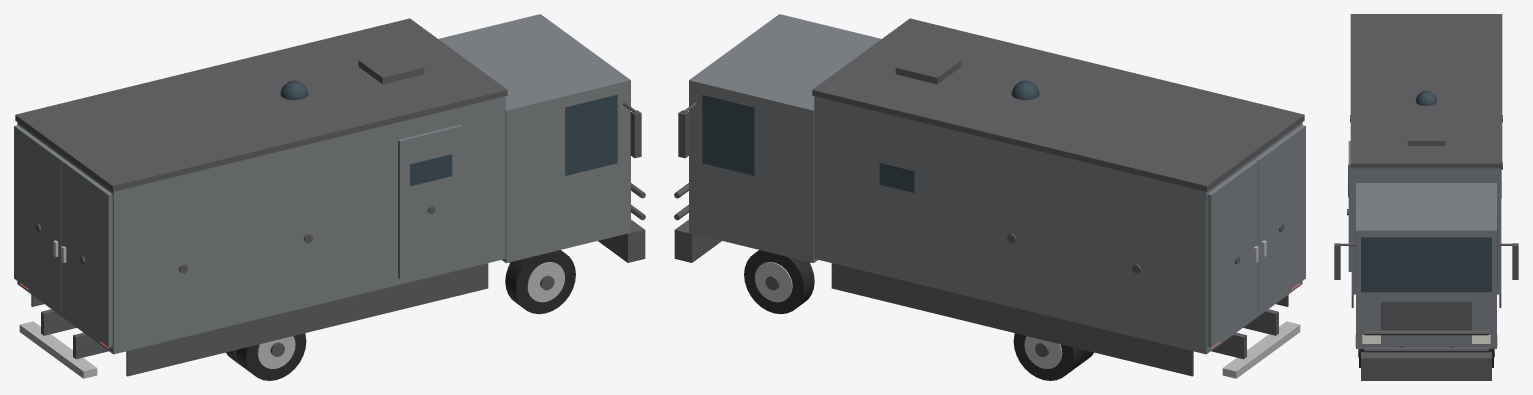
The model's file is SM_SecureVan.fbx.
3 views of the same model, side by side, from view 1: azimuth 30°, elevation 25°; view 2: azimuth 150°, elevation 25°; view 3: azimuth 270°, elevation 25° (orthographic). The views are drawn at different scales.
Visible parts, largest first — view 1: SV_Chassis, SV_SideDoor, SV_RearDoor_R, SV_RearDoor_L, SV_Wheel_A1R, SV_Wheel_A2R; view 2: SV_Chassis, SV_RearDoor_L, SV_RearDoor_R, SV_Wheel_A1L, SV_Wheel_A2L; view 3: SV_Chassis, SV_SideDoor.
Boxes of the visible parts, bbox=[...] form: SV_Chassis: bbox=[15, 14, 645, 378]; SV_SideDoor: bbox=[398, 124, 462, 279]; SV_RearDoor_R: bbox=[61, 160, 112, 347]; SV_RearDoor_L: bbox=[14, 125, 65, 312]; SV_Wheel_A1R: bbox=[505, 250, 575, 314]; SV_Wheel_A2R: bbox=[236, 333, 306, 380]; SV_Chassis: bbox=[674, 14, 1304, 378]; SV_RearDoor_L: bbox=[1207, 160, 1258, 347]; SV_RearDoor_R: bbox=[1254, 125, 1305, 312]; SV_Wheel_A1L: bbox=[744, 250, 814, 314]; SV_Wheel_A2L: bbox=[1013, 333, 1083, 380]; SV_Chassis: bbox=[1334, 14, 1518, 380]; SV_SideDoor: bbox=[1347, 141, 1351, 271].
Bounding box in the file's own units: 799 × 345 × 296.
